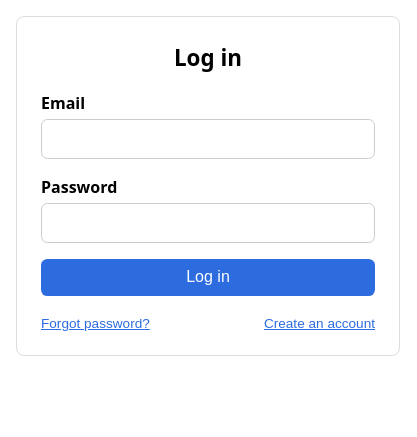
Test: shows a retry-after message on 429
Type "me@example.com" into the field labelled "Email" at (208, 139), box [41,119,375,159]
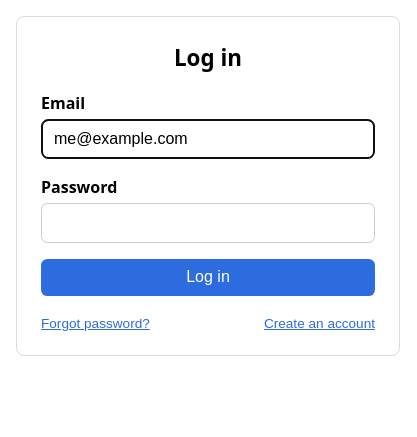
Type "longpassword1" into the password field labelled "Password" at (208, 223), box [41,203,375,243]
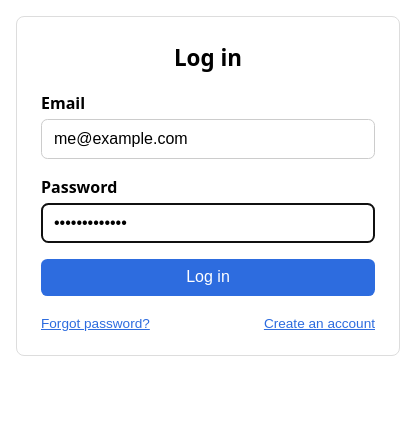
Click the button "Log in" at (208, 277), box [41,259,375,296]
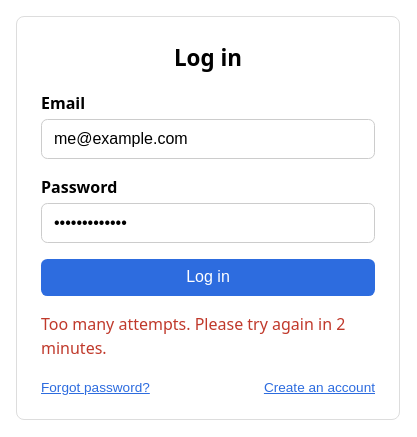
Check: the text "Too many attempts. Please try again in 2 minutes." is shown, box [41,312,375,360]
